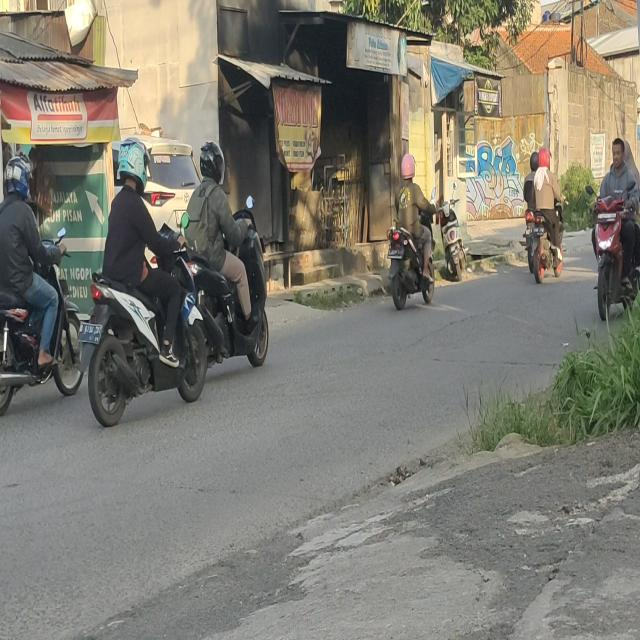helmet: (119, 138, 149, 184), (5, 156, 31, 198), (200, 144, 223, 178), (401, 152, 417, 178), (538, 148, 550, 167), (530, 152, 540, 171)
no-helmet: (612, 138, 625, 165), (623, 139, 633, 163)
